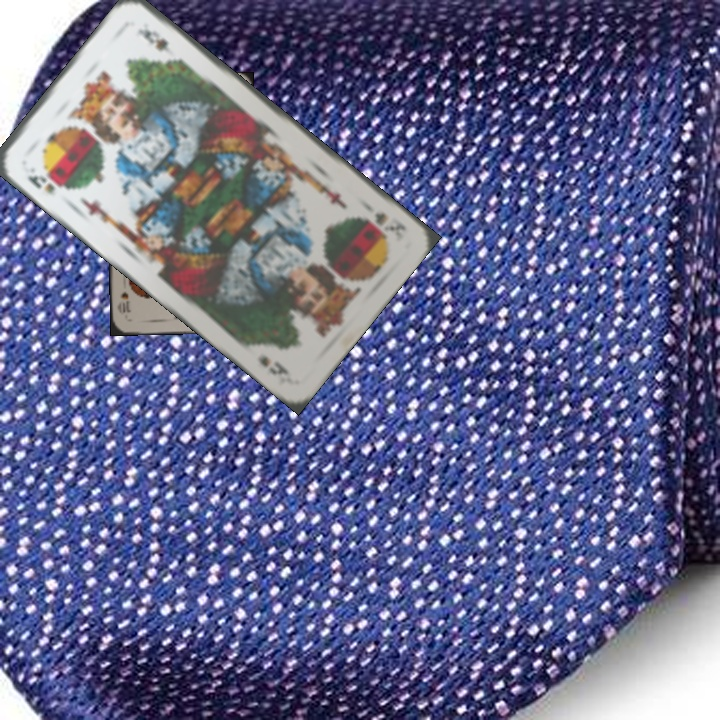SK: (370, 208, 410, 245), (23, 171, 58, 197)
